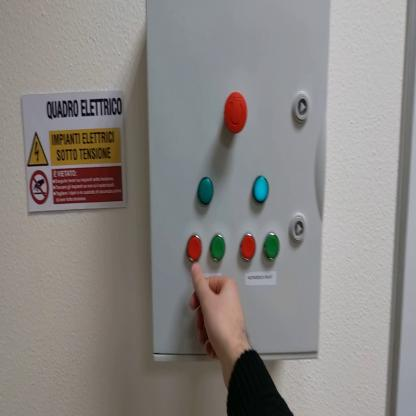hand: (189, 266, 249, 367)
left green button: (211, 234, 226, 262)
left red button: (189, 236, 206, 264)
right green button: (265, 231, 281, 264)
right red button: (242, 233, 257, 262)
